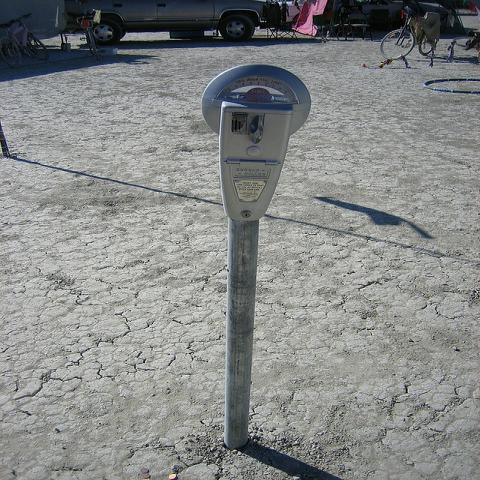car: (358, 0, 449, 28)
truck: (61, 0, 282, 46)
